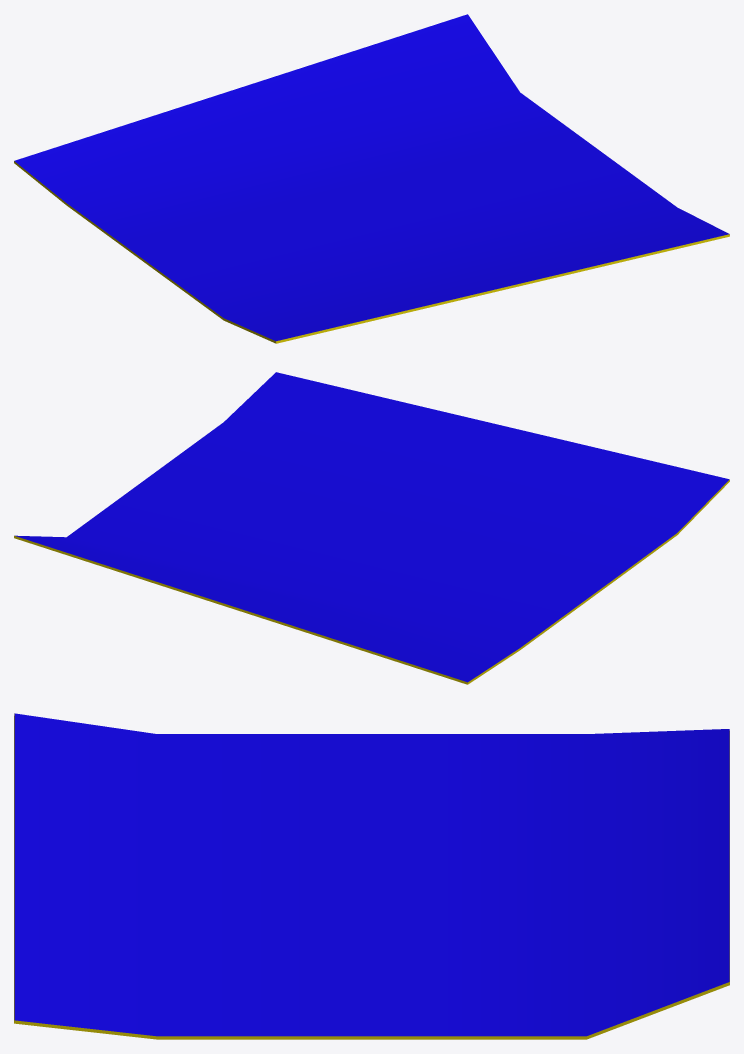
The model's file is Postits.fbx.
3 views of the same model, one above another, from view 1: azimuth 30°, elevation 25°; view 2: azimuth 150°, elevation 25°; view 3: azimuth 270°, elevation 25° (orthographic). The views are drawn at different scales.
Visible parts, largest first — view 1: Plane; view 2: Plane; view 3: Plane.
Boxes of the visible parts, x1,y1,x2,y2 form: Plane: (14, 14, 729, 343); Plane: (14, 372, 729, 684); Plane: (14, 713, 729, 1039).
Size of the model in its own units: 2 by 0.1779 by 2.
